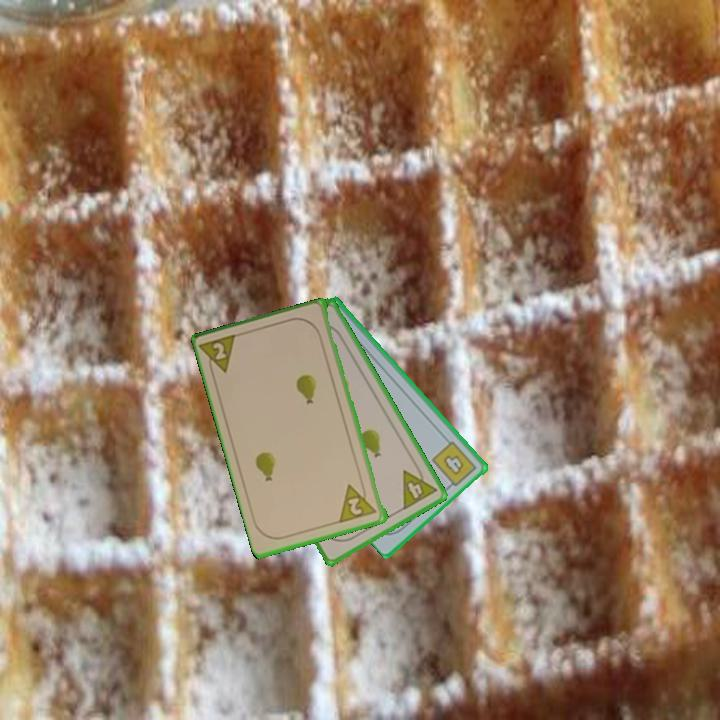2p: (198, 330, 242, 380), (337, 478, 380, 526)
4b: (428, 437, 480, 492)
4p: (399, 460, 440, 513)
